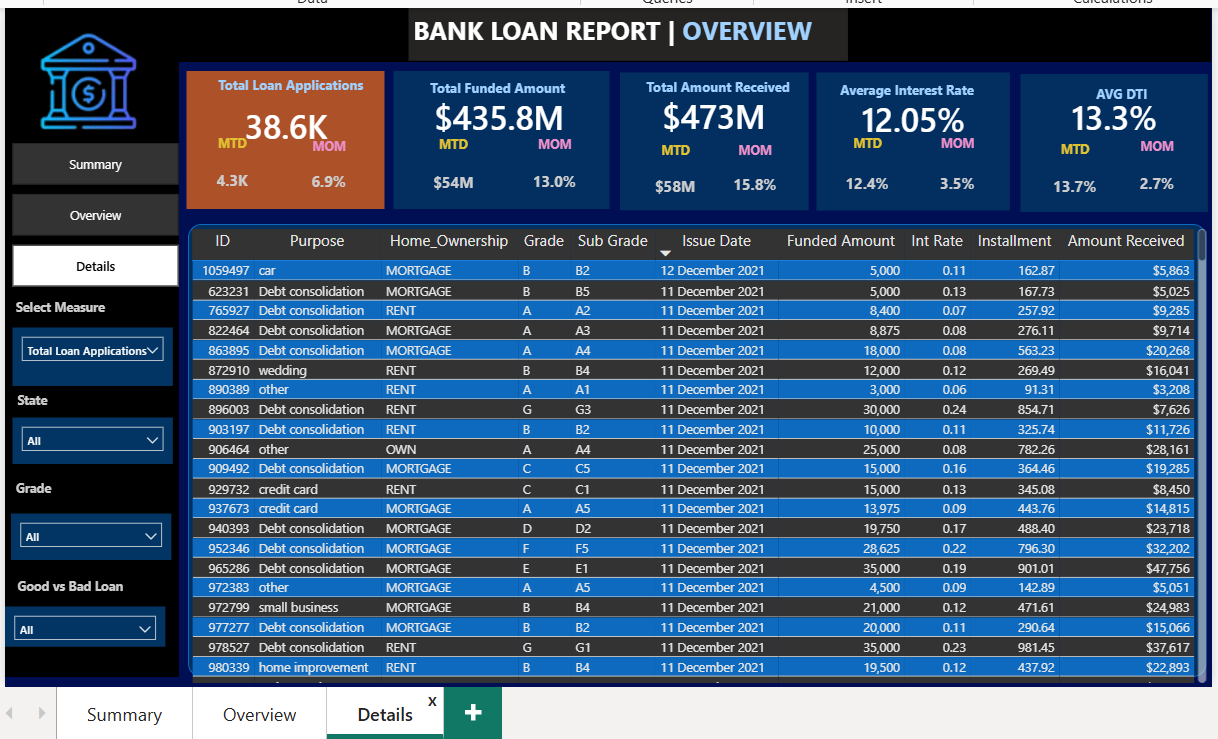

The dashboard page shown, as its layout file describes it:
{"tool":"powerbi","page":{"name":"Details","canvas":[1280,720],"ordinal":2},"visuals":[{"type":"shape","box":[0,55.7,184.5,653.7],"z":0},{"type":"shape","box":[412.1,66.8,229,146.3],"z":0,"group":"g1"},{"type":"shape","box":[651.9,68.4,200,146],"z":0,"group":"g2"},{"type":"shape","box":[861.5,68.4,205,146.3],"z":0,"group":"g4"},{"type":"shape","box":[1075.9,70,198.7,146.3],"z":0,"group":"g5"},{"type":"shape","box":[0,0,1278.9,57.3],"z":1000},{"type":"textbox","box":[207.7,67.1,189.3,38.2],"z":1000,"group":"g3"},{"type":"textbox","box":[660.6,69.1,189.3,28.6],"z":1000,"group":"g2"},{"type":"textbox","box":[422.2,69.7,198.8,31.8],"z":1000,"group":"g1"},{"type":"textbox","box":[869.4,71.6,176.1,35],"z":1000,"group":"g4"},{"type":"textbox","box":[1087.1,76.7,192.8,35],"z":1000,"group":"g5"},{"type":"cardVisual","fields":{"Data":["bank_loan_data.Total Amount Received"]},"box":[650.1,74.1,202,77.9],"z":2000,"group":"g2"},{"type":"cardVisual","fields":{"Data":["bank_loan_data.Average Interest Rate"]},"box":[861,74.1,205.2,82.7],"z":2000,"group":"g4"},{"type":"cardVisual","fields":{"Data":["bank_loan_data.DTI Ratio"]},"box":[1075.1,74.8,202,79.5],"z":2000,"group":"g5"},{"type":"cardVisual","fields":{"Data":["bank_loan_data.Total Funded Amount"]},"box":[419,79.3,208.4,70],"z":2000,"group":"g1"},{"type":"cardVisual","fields":{"Data":["bank_loan_data.Total Loan Applications"]},"box":[193.4,89.7,208.4,70],"z":2000,"group":"g3"},{"type":"shape","box":[194.1,229,1080,480.4],"z":2000},{"type":"textbox","box":[427.9,0,466,55.7],"z":3000},{"type":"cardVisual","title":"MTD","fields":{"Data":["bank_loan_data.MTD Average Interest Rate"]},"box":[862.6,133,105,82.7],"z":3000,"group":"g4"},{"type":"cardVisual","title":"MTD","fields":{"Data":["bank_loan_data.MTD Loan Applications"]},"box":[192.5,134.4,97,78],"z":3000,"group":"g3"},{"type":"cardVisual","title":"MTD","fields":{"Data":["bank_loan_data.MTD Funded Amount"]},"box":[411.6,135.2,127,77],"z":3000,"group":"g1"},{"type":"cardVisual","title":"MTD","fields":{"Data":["bank_loan_data.MTD Average DTI Ratio"]},"box":[1074.8,140.1,118.9,76.3],"z":3000,"group":"g5"},{"type":"cardVisual","title":"MTD","fields":{"Data":["bank_loan_data.MTD Amount Received"]},"box":[652.2,141.6,117.7,73.2],"z":3000,"group":"g2"},{"type":"group","id":"g1","title":"Group 1","box":[411.6,66.8,229.5,146.3],"z":4000},{"type":"cardVisual","title":"MOM","fields":{"Data":["bank_loan_data.MOM Average Interest Rate"]},"box":[954.9,133,111.3,82.7],"z":4000,"group":"g4"},{"type":"cardVisual","title":"MOM","fields":{"Data":["bank_loan_data.MOM Funded Amount"]},"box":[526.8,135.5,112.9,76.3],"z":4000,"group":"g1"},{"type":"cardVisual","title":"MOM","fields":{"Data":["bank_loan_data.MOM Average DTI Ratio"]},"box":[1166.7,137.3,108.1,76.3],"z":4000,"group":"g5"},{"type":"cardVisual","title":"MOM","fields":{"Data":["bank_loan_data.MOM Loan Applications"]},"box":[284.7,137.8,117.7,73],"z":4000,"group":"g3"},{"type":"cardVisual","title":"MOM","fields":{"Data":["bank_loan_data.MOM Amount Received"]},"box":[739.7,141.6,111.3,70],"z":4000,"group":"g2"},{"type":"group","id":"g2","title":"Group 1","box":[650.1,68.4,202,146.4],"z":5000},{"type":"group","id":"g3","title":"Group 1","box":[192.5,67.1,209.9,145.3],"z":6000},{"type":"group","id":"g4","title":"Group 1","box":[861,68.4,205.5,147.3],"z":7000},{"type":"group","id":"g5","title":"Group 1","box":[1074.8,70,205.1,146.4],"z":8000},{"type":"slicer","fields":{"Values":["bank_loan_data.address_state"]},"box":[8,434.2,170.2,49.3],"z":9000},{"type":"textbox","box":[8,400.8,85.9,36.6],"z":10000},{"type":"slicer","fields":{"Values":["bank_loan_data.grade"]},"box":[6.4,536,170.2,49.3],"z":11000},{"type":"textbox","box":[6.4,494.7,85.9,36.6],"z":12000},{"type":"slicer","fields":{"Values":["bank_loan_data.Good  vs Bad Loan"]},"box":[0,634.7,170.2,42.9],"z":13000},{"type":"textbox","box":[8,598.1,144.7,36.6],"z":14000},{"type":"slicer","fields":{"Values":["Select Measure.Select Measure"]},"box":[8,338.8,170.2,62],"z":15000},{"type":"textbox","box":[6.4,302.2,127.2,36.6],"z":16000},{"type":"tableEx","fields":{"Values":["bank_loan_data.id","bank_loan_data.purpose","bank_loan_data.home_ownership","bank_loan_data.grade","bank_loan_data.sub_grade","bank_loan_data.issue_date","bank_loan_data.Total Funded Amount","Sum(bank_loan_data.int_rate)","Sum(bank_loan_data.installment)","bank_loan_data.Total Amount Received"]},"box":[192.5,229,1086.4,491.5],"z":17000},{"type":"pageNavigator","box":[8,143.2,176.6,154.3],"z":18000},{"type":"image","box":[8,8,170.2,149.5],"z":19000}]}

Visuals, with their boxes on the page's 1280x720 design canvas (x1, y1, x2, y2). These are canvas units, not pixel positions in the 1218x739 screenshot, which may show the page scaled, cropped or inside an application window:
shape: 0, 56, 184, 709
shape: 412, 67, 641, 213
shape: 652, 68, 852, 214
shape: 862, 68, 1066, 215
shape: 1076, 70, 1275, 216
shape: 0, 0, 1279, 57
textbox: 208, 67, 397, 105
textbox: 661, 69, 850, 98
textbox: 422, 70, 621, 102
textbox: 869, 72, 1046, 107
textbox: 1087, 77, 1280, 112
cardVisual - bank_loan_data.Total Amount Received: 650, 74, 852, 152
cardVisual - bank_loan_data.Average Interest Rate: 861, 74, 1066, 157
cardVisual - bank_loan_data.DTI Ratio: 1075, 75, 1277, 154
cardVisual - bank_loan_data.Total Funded Amount: 419, 79, 627, 149
cardVisual - bank_loan_data.Total Loan Applications: 193, 90, 402, 160
shape: 194, 229, 1274, 709
textbox: 428, 0, 894, 56
"MTD" cardVisual: 863, 133, 968, 216
"MTD" cardVisual: 192, 134, 290, 212
"MTD" cardVisual: 412, 135, 539, 212
"MTD" cardVisual: 1075, 140, 1194, 216
"MTD" cardVisual: 652, 142, 770, 215
"Group 1" group: 412, 67, 641, 213
"MOM" cardVisual: 955, 133, 1066, 216
"MOM" cardVisual: 527, 136, 640, 212
"MOM" cardVisual: 1167, 137, 1275, 214
"MOM" cardVisual: 285, 138, 402, 211
"MOM" cardVisual: 740, 142, 851, 212
"Group 1" group: 650, 68, 852, 215
"Group 1" group: 192, 67, 402, 212
"Group 1" group: 861, 68, 1066, 216
"Group 1" group: 1075, 70, 1280, 216
slicer - bank_loan_data.address_state: 8, 434, 178, 484
textbox: 8, 401, 94, 437
slicer - bank_loan_data.grade: 6, 536, 177, 585
textbox: 6, 495, 92, 531
slicer - bank_loan_data.Good  vs Bad Loan: 0, 635, 170, 678
textbox: 8, 598, 153, 635
slicer - Select Measure.Select Measure: 8, 339, 178, 401
textbox: 6, 302, 134, 339
tableEx - bank_loan_data.id x bank_loan_data.purpose: 192, 229, 1279, 720
pageNavigator: 8, 143, 185, 298
image: 8, 8, 178, 158
